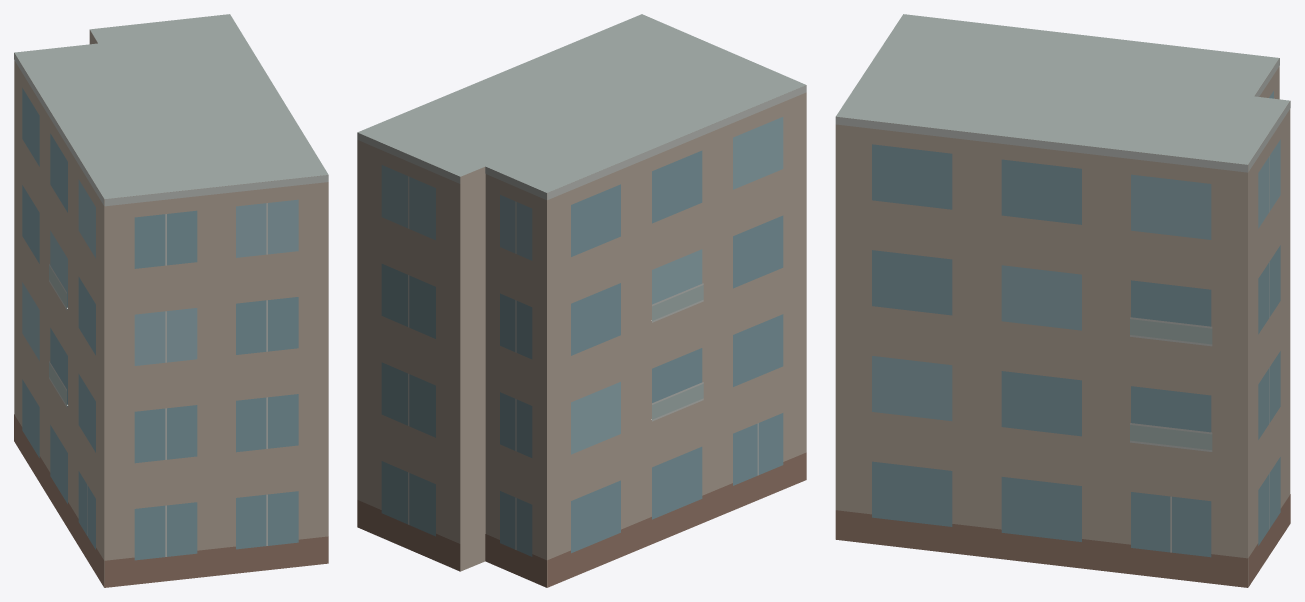
File: survey-upis-33029170.glb
The picture shows the model from 3 angles, left to right: view 1: azimuth 30°, elevation 25°; view 2: azimuth 150°, elevation 25°; view 3: azimuth 270°, elevation 25°; orthographic projection. The views are drawn at different scales.
Parts seen in each view (by area): view 1: survey-upis-33029170.tmp; view 2: survey-upis-33029170.tmp; view 3: survey-upis-33029170.tmp.
Part boxes in pixels (<box>): survey-upis-33029170.tmp: <box>14,14,328,587</box>; survey-upis-33029170.tmp: <box>357,14,806,587</box>; survey-upis-33029170.tmp: <box>835,14,1290,587</box>.
Bounding box in the file's own units: 10.14 × 13.25 × 12.92.
